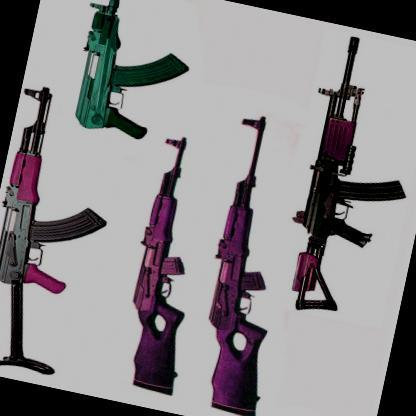rifle: (179, 109, 324, 416), (273, 33, 416, 329), (0, 80, 131, 387), (98, 124, 231, 401), (59, 0, 206, 148)
